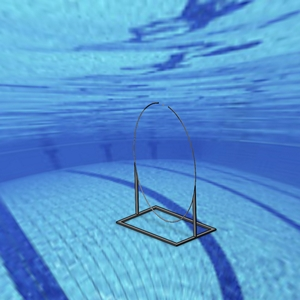circle: (114, 100, 218, 247)
